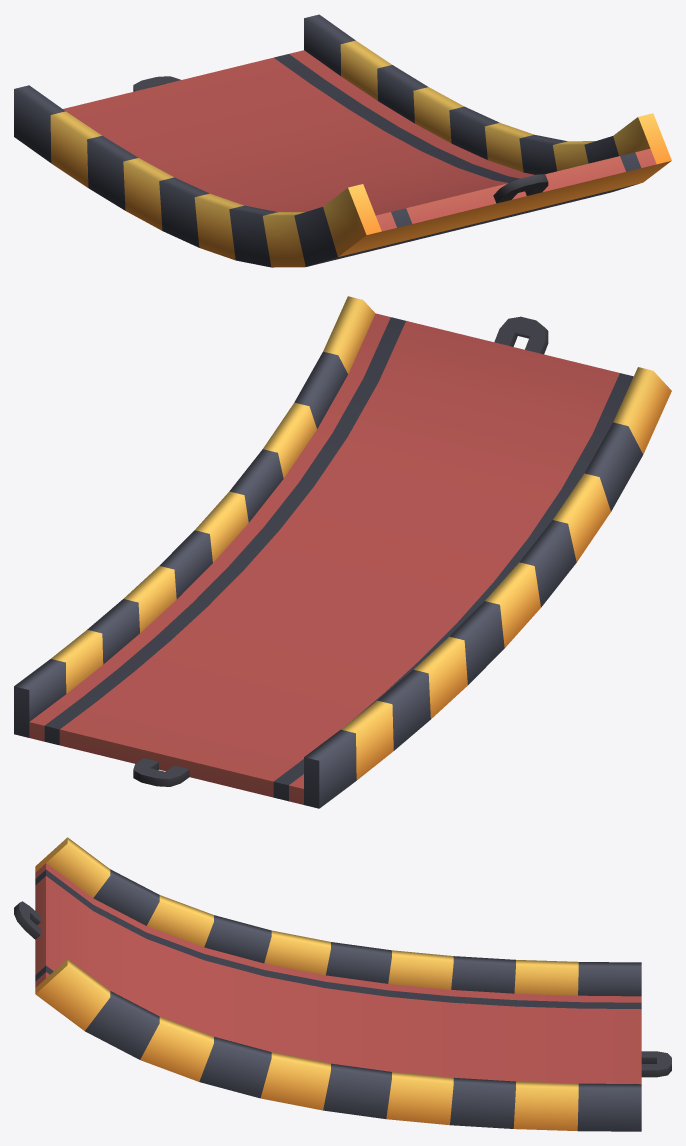
File: track-road-wide-straight-hill-beginning.fbx
3 renders of one model, top to bottom at view 1: azimuth 30°, elevation 25°; view 2: azimuth 150°, elevation 25°; view 3: azimuth 270°, elevation 25°, orthographic. The views are drawn at different scales.
Parts seen in each view (by area): view 1: track-road-wide-straight-hill-beginning; view 2: track-road-wide-straight-hill-beginning; view 3: track-road-wide-straight-hill-beginning.
Part boxes in pixels (x1,y1,x2,y2): track-road-wide-straight-hill-beginning: (14,14,671,267); track-road-wide-straight-hill-beginning: (14,296,671,808); track-road-wide-straight-hill-beginning: (14,837,671,1131).
Size of the model in its own units: 200 by 121 by 434.
